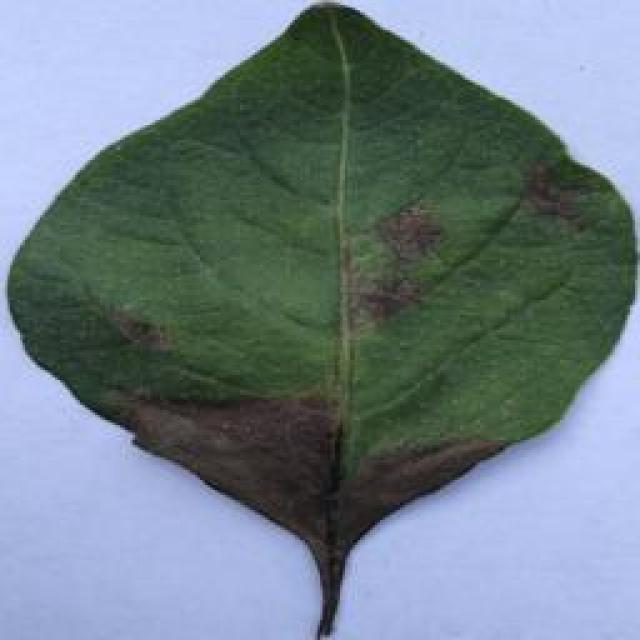Potato_Late_Blight: (3, 8, 632, 633)
